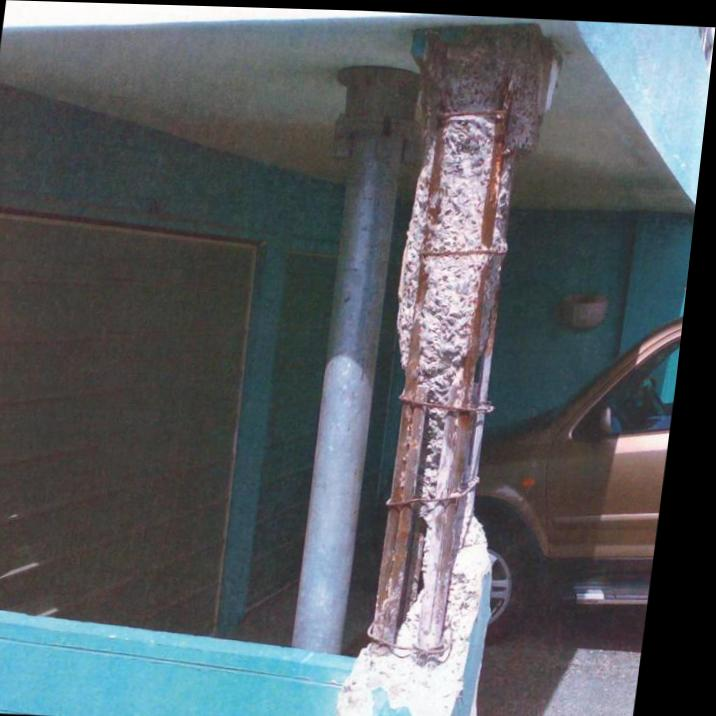damage: (347, 17, 566, 716)
